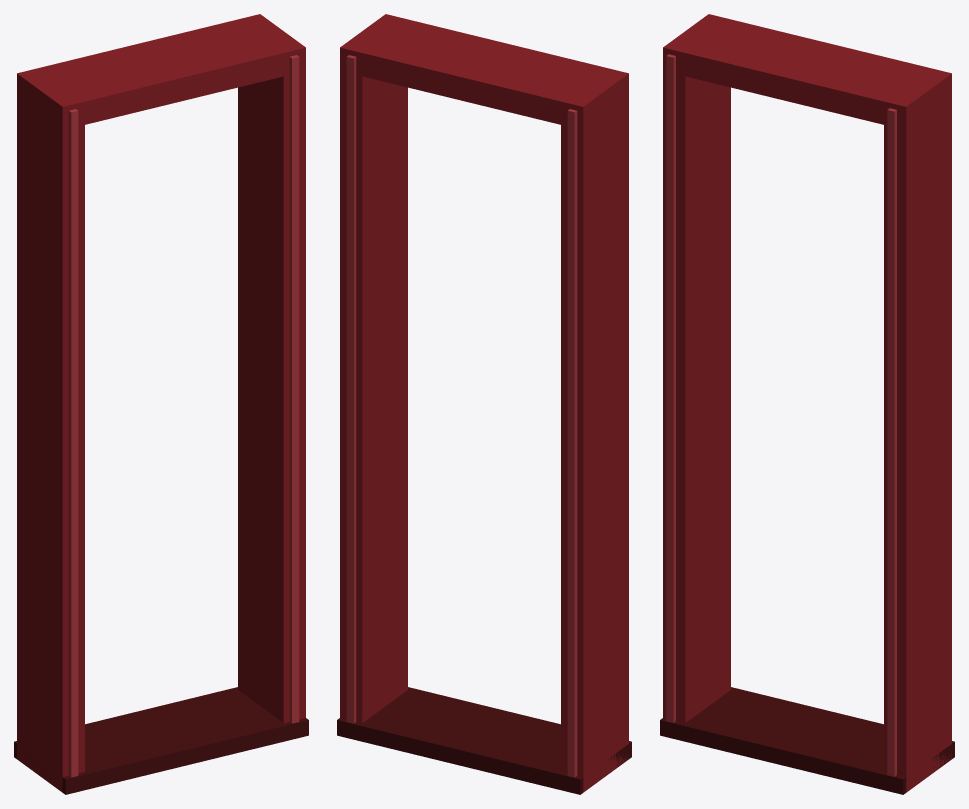
Rendered from CMU3DSingleSecDoorGlassOpen.glb.
3 views of the same model, side by side, from view 1: azimuth 30°, elevation 25°; view 2: azimuth 150°, elevation 25°; view 3: azimuth 330°, elevation 25° (orthographic).
Parts seen in each view (by area): view 1: door jamb (×2), header, jamb raised edge (×2), threshold; view 2: door jamb (×2), header, jamb raised edge (×2), threshold; view 3: door jamb (×2), header, jamb raised edge (×2), threshold.
Part boxes in pixels (bbox=[...]): door jamb (×2): bbox=[17, 14, 305, 792]; header: bbox=[17, 14, 305, 129]; jamb raised edge (×2): bbox=[68, 55, 299, 777]; threshold: bbox=[14, 687, 308, 794]; door jamb (×2): bbox=[340, 14, 628, 792]; header: bbox=[340, 14, 628, 129]; jamb raised edge (×2): bbox=[346, 55, 577, 777]; threshold: bbox=[337, 687, 631, 794]; door jamb (×2): bbox=[663, 14, 951, 792]; header: bbox=[663, 14, 951, 129]; jamb raised edge (×2): bbox=[666, 54, 896, 776]; threshold: bbox=[660, 687, 954, 794].
Bounding box in the file's own units: 0.98 × 2.64 × 0.36.
